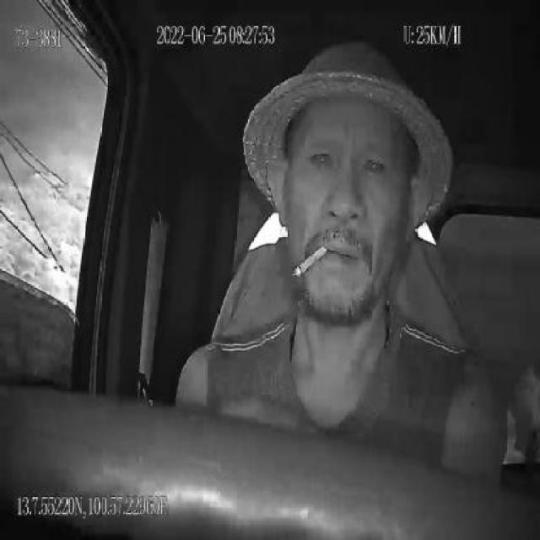smoking: (291, 244, 329, 282)
